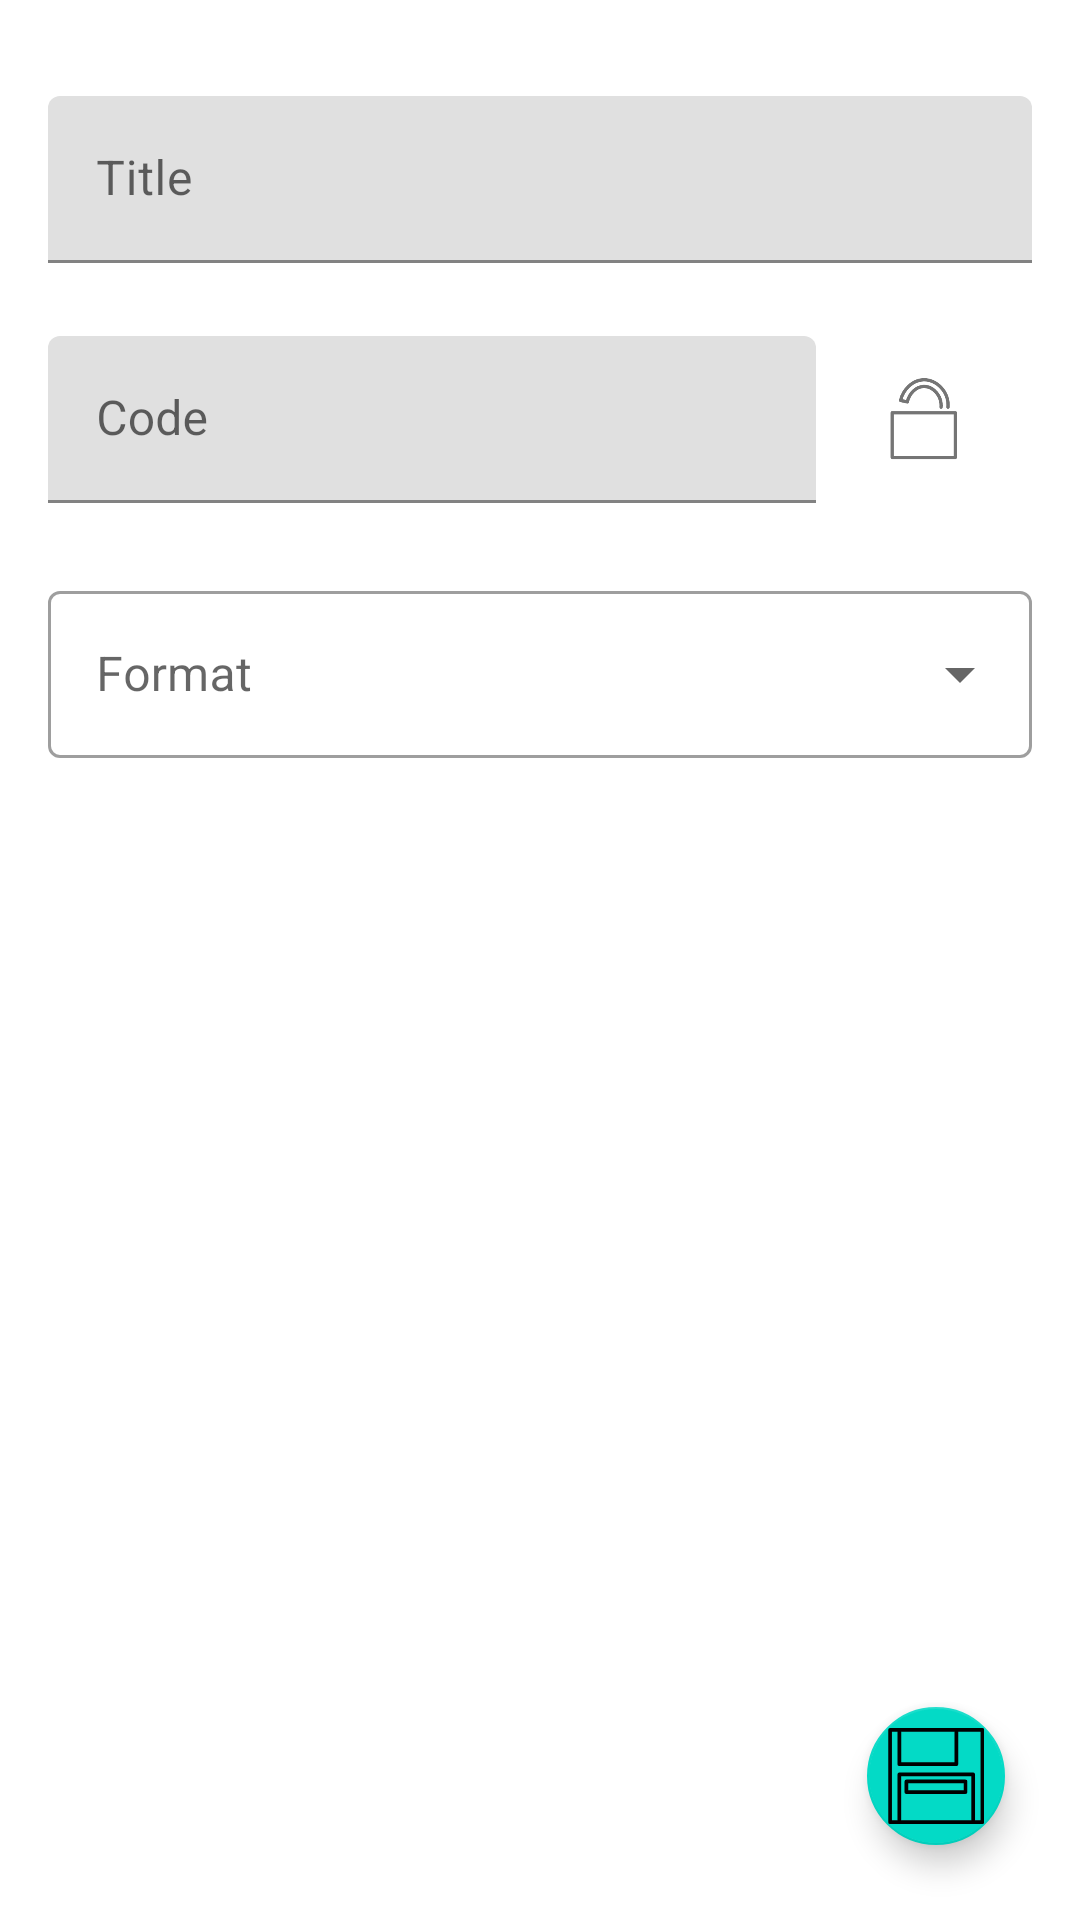

Screen size 1080*1920. Icon name, then its center in pixels as point (x, y):
Save: point (937, 1777)
